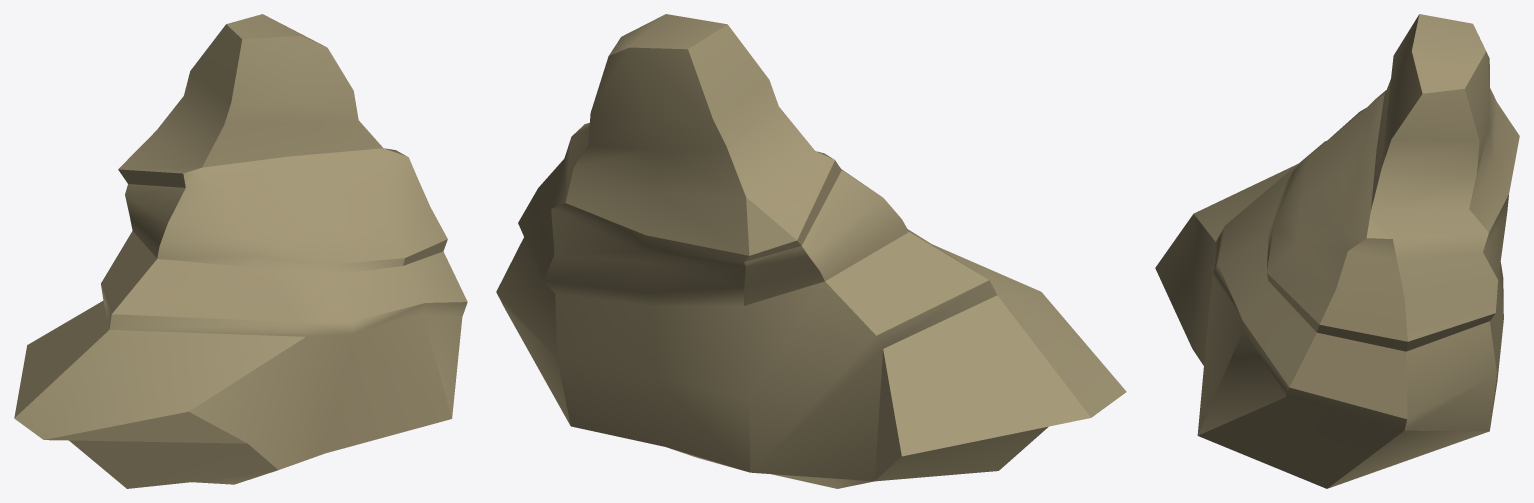
The model's file is rock_1.fbx.
3 views of the same model, side by side, from view 1: azimuth 30°, elevation 25°; view 2: azimuth 150°, elevation 25°; view 3: azimuth 270°, elevation 25° (orthographic). The views are drawn at different scales.
Visible parts, largest first — view 1: rock_1; view 2: rock_1; view 3: rock_1.
Boxes of the visible parts, x1,y1,x2,y2 form: rock_1: (14,14,467,488); rock_1: (496,14,1126,488); rock_1: (1155,14,1519,488).
Bounding box in the file's own units: 16.07 × 13.4 × 10.03.
